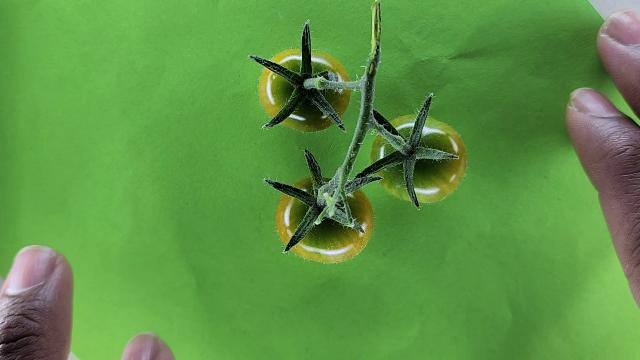Fully Grown: (369, 114, 468, 204), (274, 176, 374, 264), (257, 48, 352, 132)
